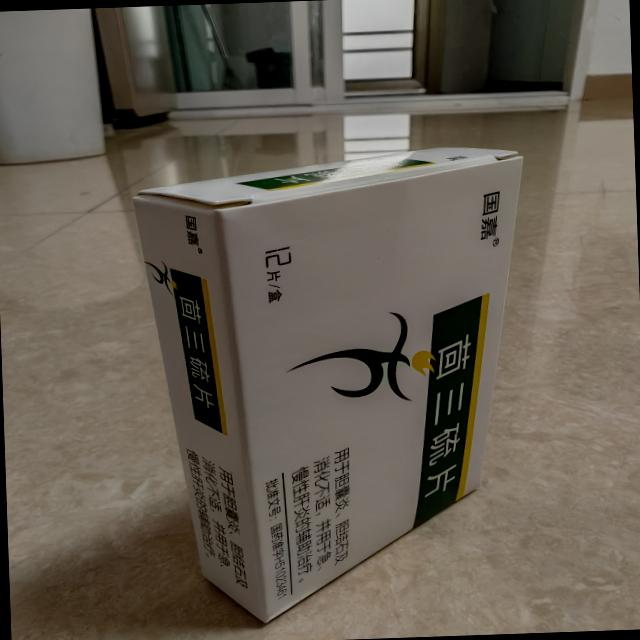box: (126, 138, 547, 632)
